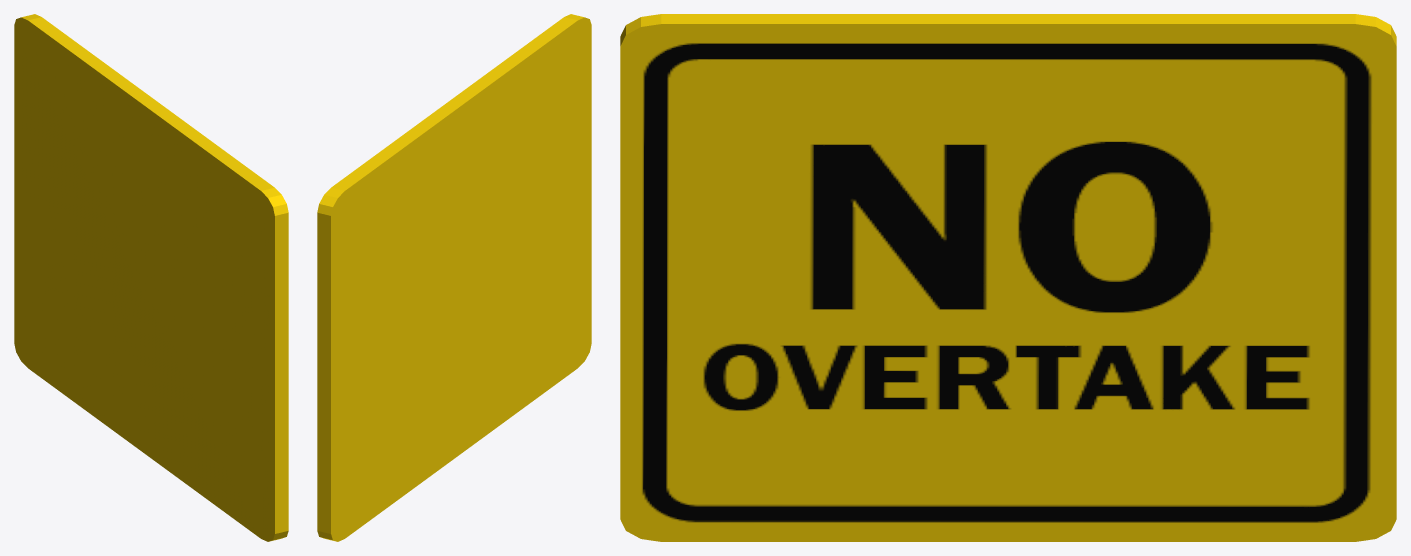
File: noovertake txt.fbx
The picture shows the model from 3 angles, left to right: view 1: azimuth 30°, elevation 25°; view 2: azimuth 150°, elevation 25°; view 3: azimuth 270°, elevation 25°; orthographic projection. The views are drawn at different scales.
Parts seen in each view (by area): view 1: Cube.006; view 2: Cube.006; view 3: Cube.006.
Part boxes in pixels (<box>): Cube.006: <box>14,14,288,541</box>; Cube.006: <box>317,14,591,541</box>; Cube.006: <box>620,14,1396,541</box>.
Bounding box in the file's own units: 5.93 × 143 × 194.
Materials: 1 (1 with a texture image).
